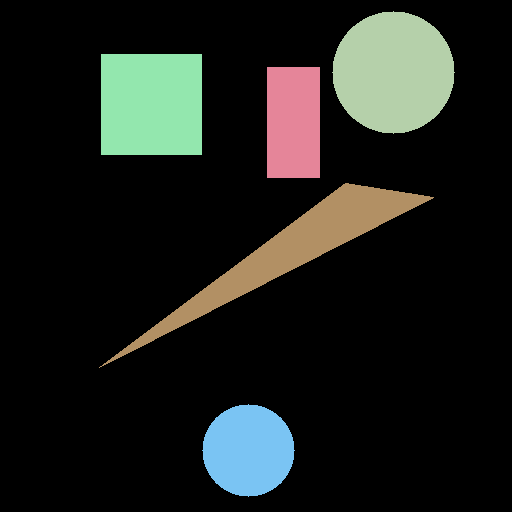circle: (332, 11, 454, 133), (202, 404, 294, 496)
rectangle: (267, 67, 319, 177)
square: (101, 54, 201, 154)
triangle: (99, 184, 433, 367)
